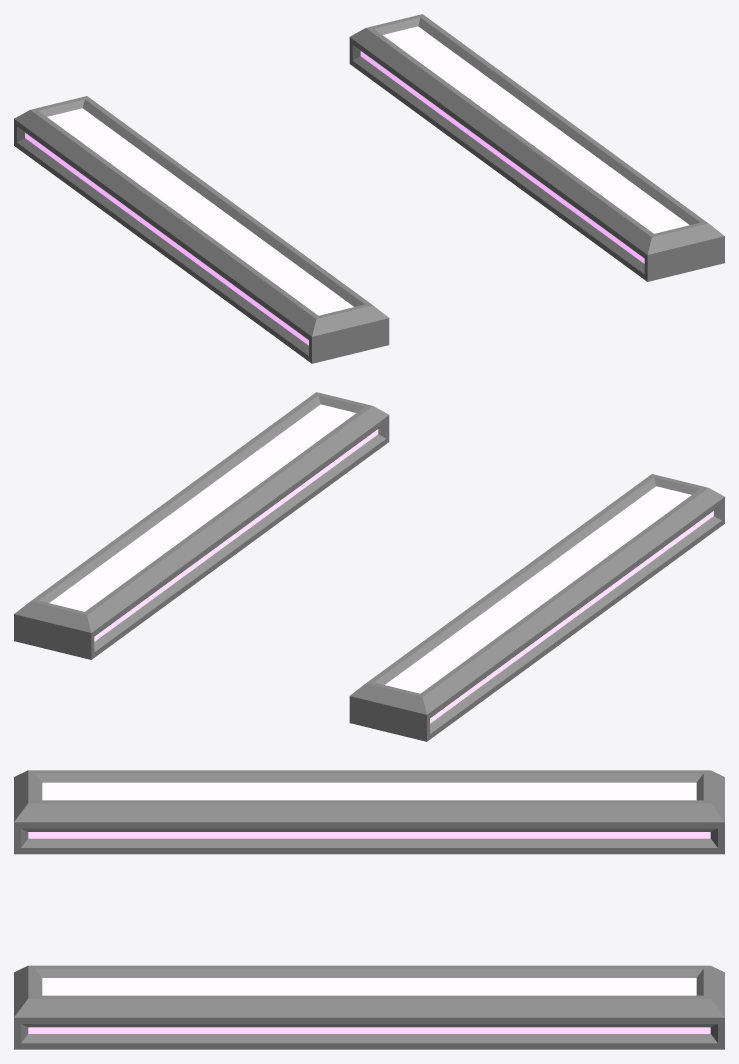
The model's file is RailStraight.FBX.
The picture shows the model from 3 angles, top to bottom: view 1: azimuth 30°, elevation 25°; view 2: azimuth 150°, elevation 25°; view 3: azimuth 270°, elevation 25°; orthographic projection. The views are drawn at different scales.
Visible parts, largest first — view 1: RailStraight_high; view 2: RailStraight_high; view 3: RailStraight_high.
Boxes of the visible parts, x1,y1,x2,y2 form: RailStraight_high: [14, 14, 724, 363]; RailStraight_high: [14, 392, 724, 741]; RailStraight_high: [14, 770, 724, 1049].
Bounding box in the file's own units: 80 × 100 × 7.
